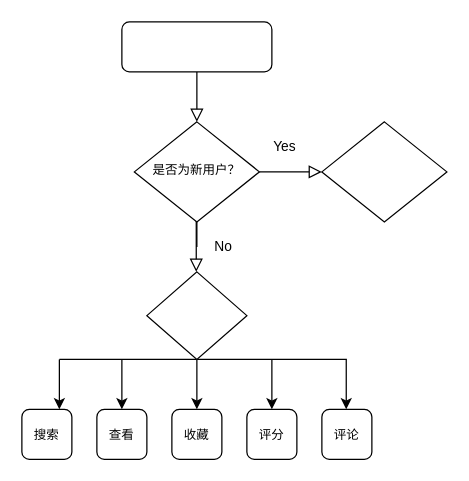
Image size: 469x481. Some labels were removed from this diagram. The shapes that lost their labels are listed below. From the top down, each one's centre as x and y in pixels, then its label:
the point at 196,46: 开始
the point at 384,171: 默认推荐
the point at 196,315: 行为特征
